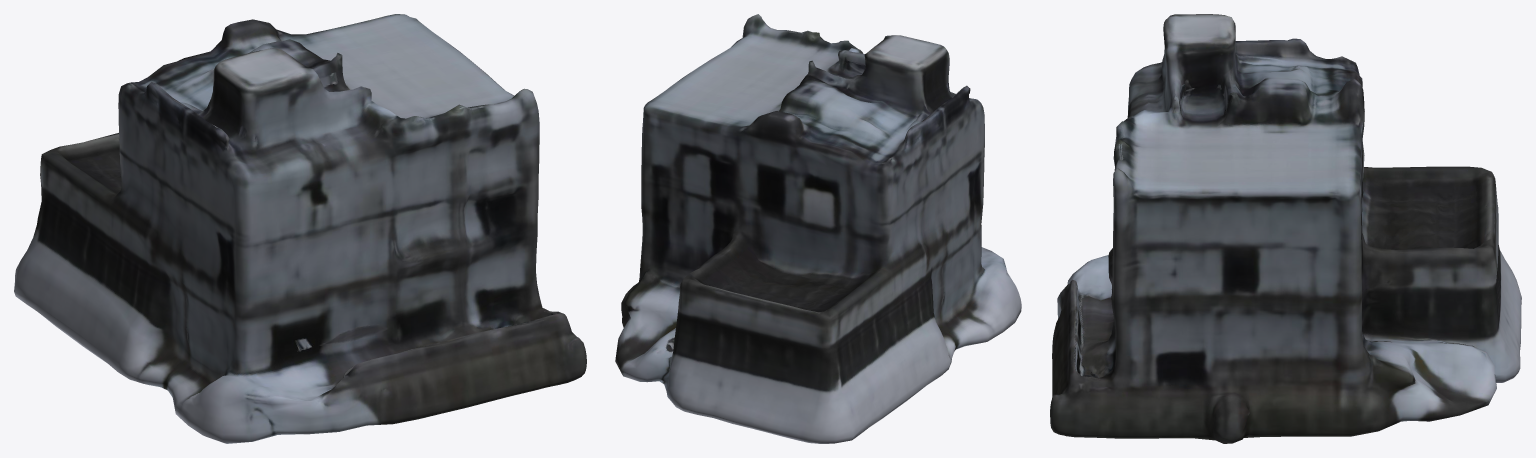
Rendered from abandoned_building5.glb.
3 renders of one model, left to right at view 1: azimuth 30°, elevation 25°; view 2: azimuth 150°, elevation 25°; view 3: azimuth 270°, elevation 25°, orthographic. The views are drawn at different scales.
Visible parts, largest first — view 1: mesh; view 2: mesh; view 3: mesh.
Boxes of the visible parts, bbox=[...] form: mesh: bbox=[14, 14, 586, 443]; mesh: bbox=[615, 14, 1021, 443]; mesh: bbox=[1050, 14, 1521, 443].
Bounding box in the file's own units: 0.8426 × 0.7183 × 0.9979.
1 material, 1 textured.
